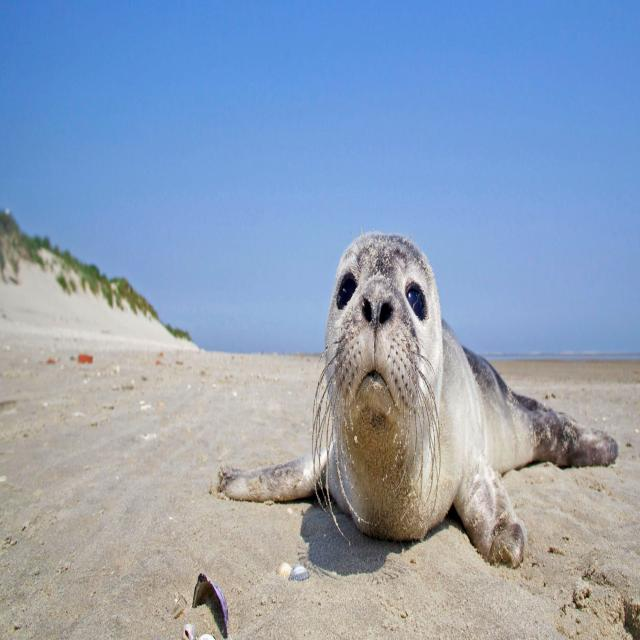seal: (219, 232, 617, 566)
